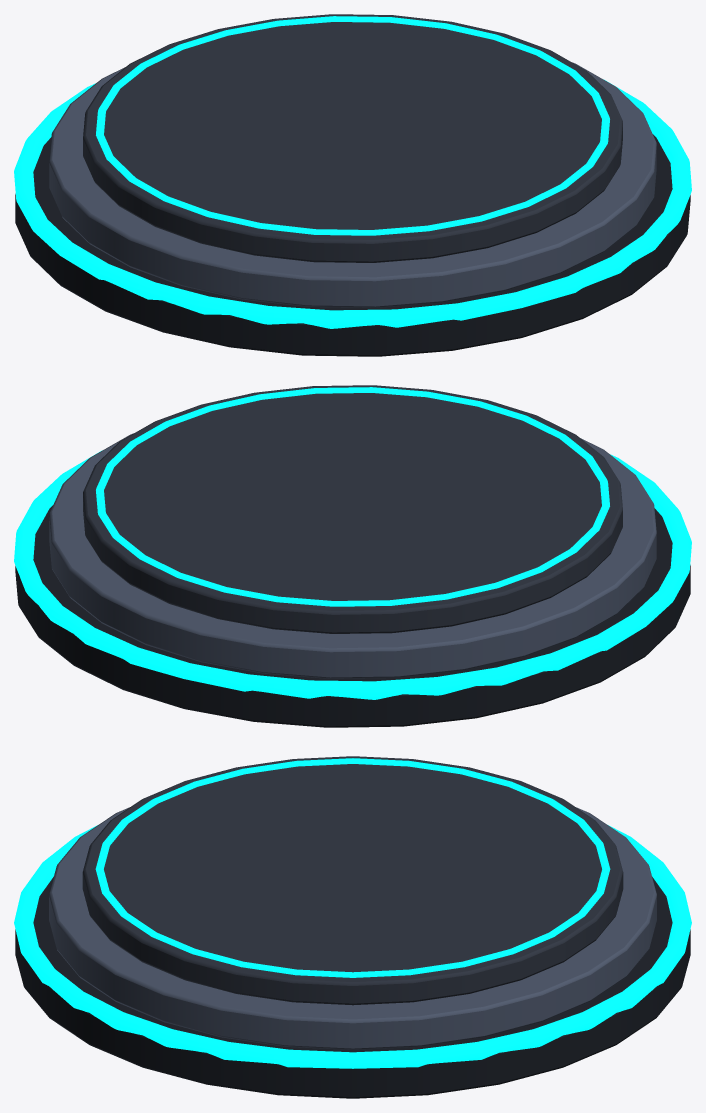
Rendered from podium.glb.
The picture shows the model from 3 angles, top to bottom: view 1: azimuth 30°, elevation 25°; view 2: azimuth 150°, elevation 25°; view 3: azimuth 270°, elevation 25°; orthographic projection.
Parts seen in each view (by area): view 1: podium; view 2: podium; view 3: podium.
Boxes of the visible parts, bbox=[...] form: podium: bbox=[14, 14, 691, 356]; podium: bbox=[14, 385, 691, 727]; podium: bbox=[14, 756, 691, 1098].
Bounding box in the file's own units: 1.61 × 0.2392 × 1.61.
